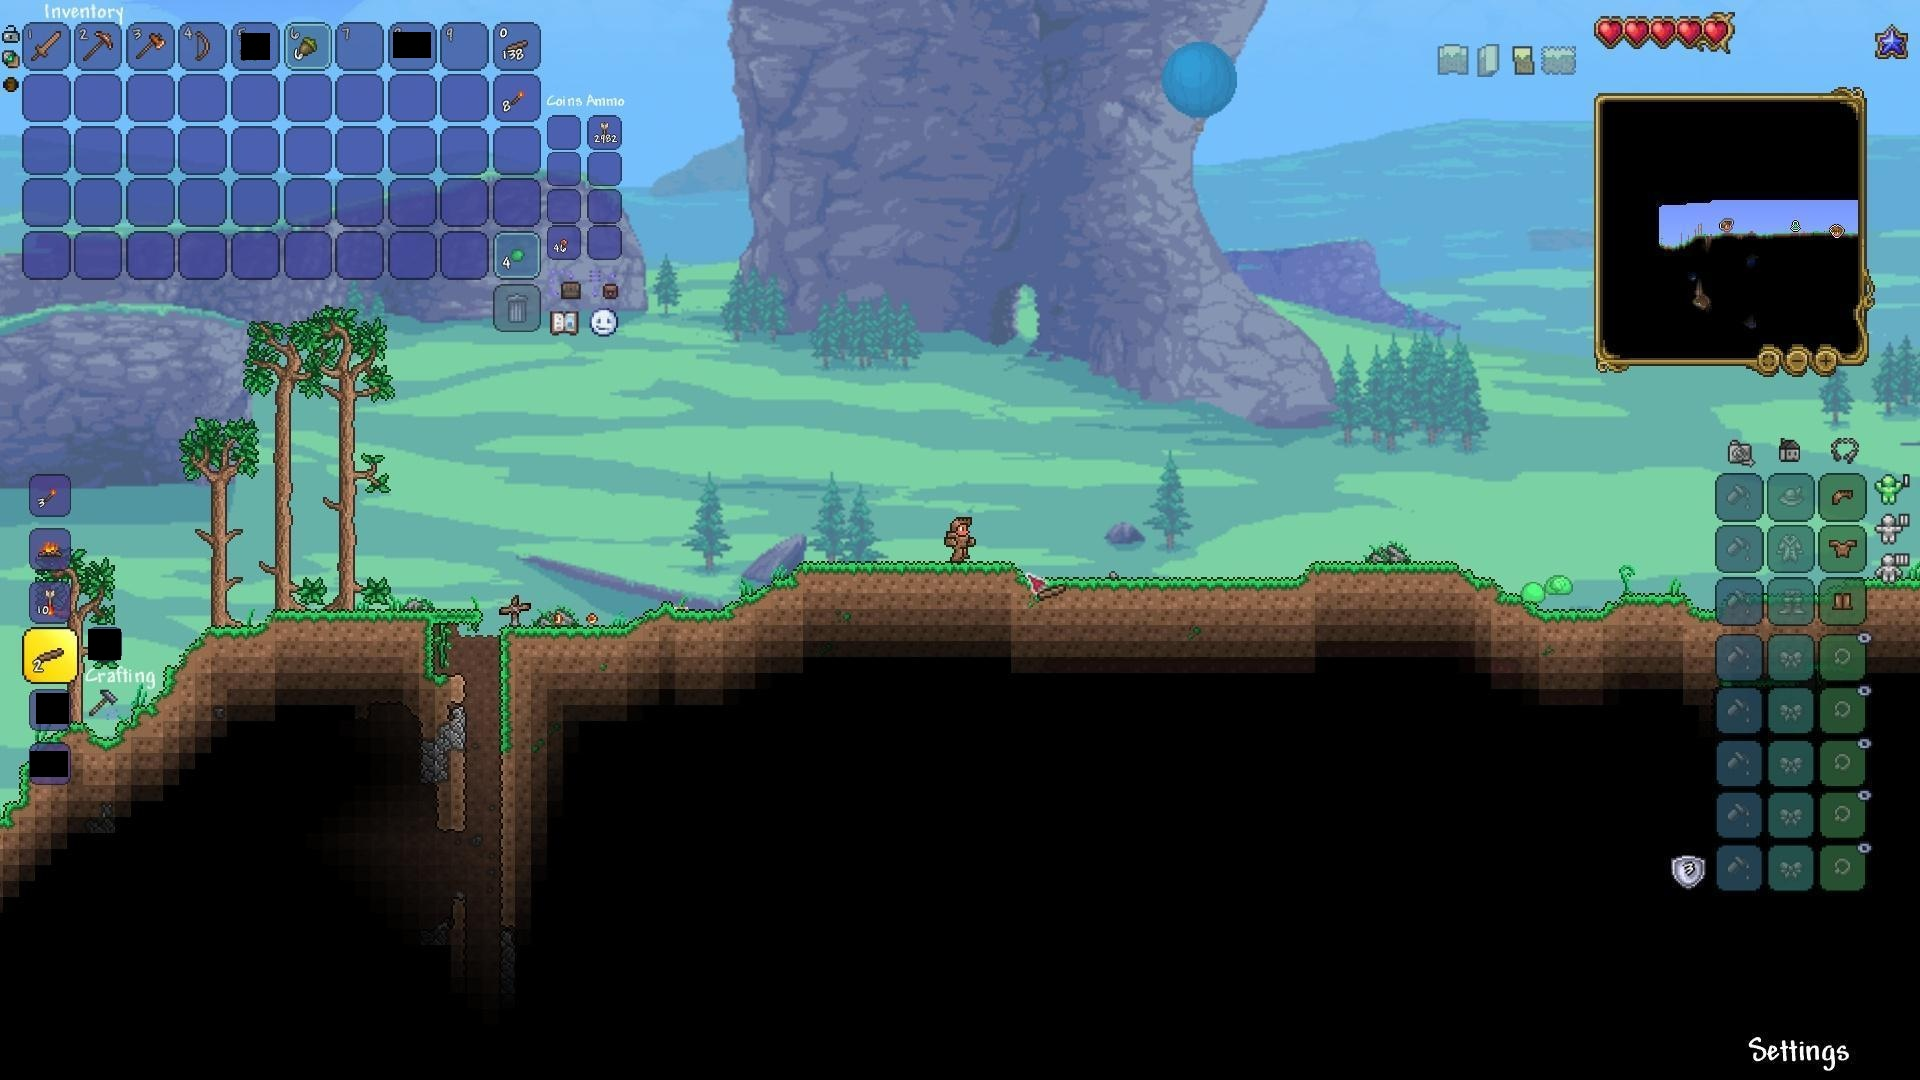breastplate: (1830, 535, 1859, 558)
helmet: (1828, 484, 1857, 510)
legs: (1832, 589, 1855, 615)
slime: (1545, 568, 1571, 596), (1519, 580, 1544, 608)
